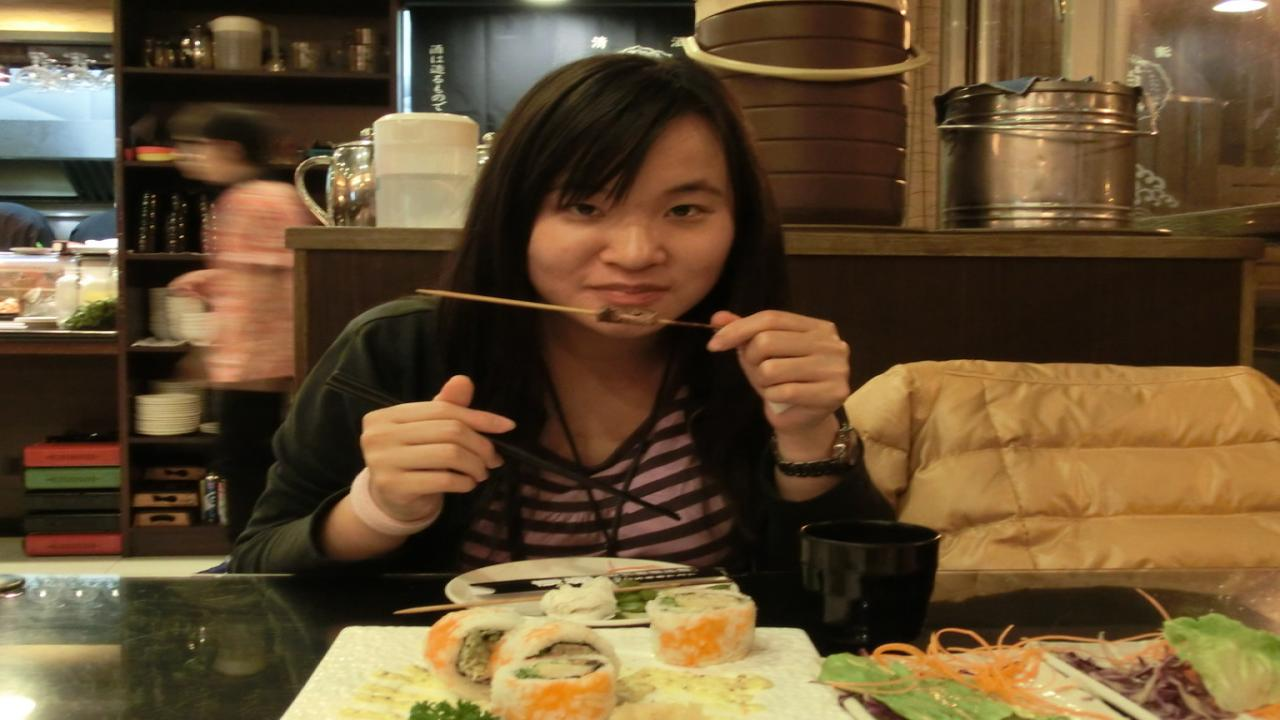chopstick: (418, 288, 744, 334), (389, 593, 562, 616)
